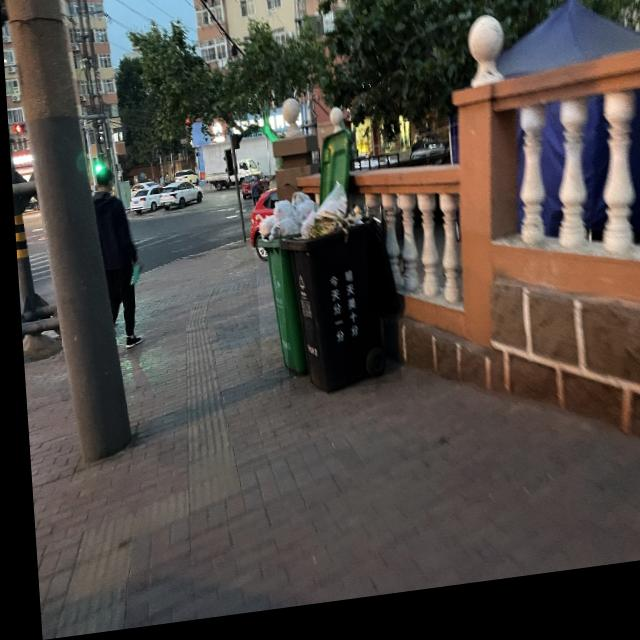overflow: (274, 184, 395, 403), (248, 195, 325, 386)
